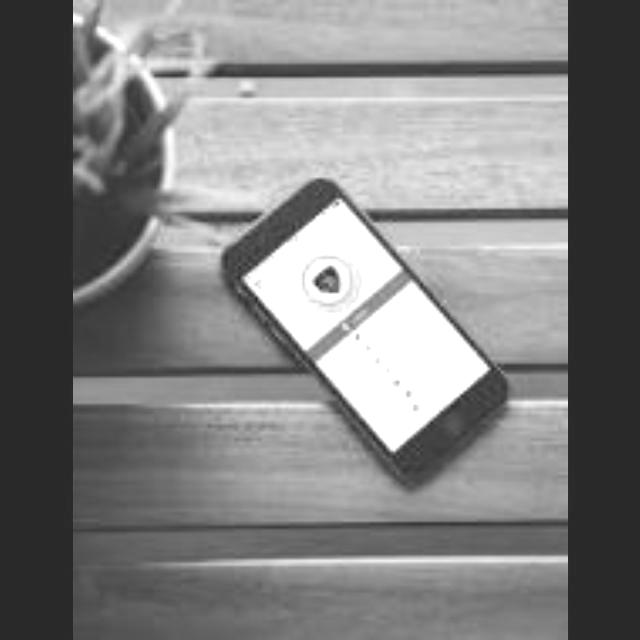fake: (176, 169, 532, 514)
